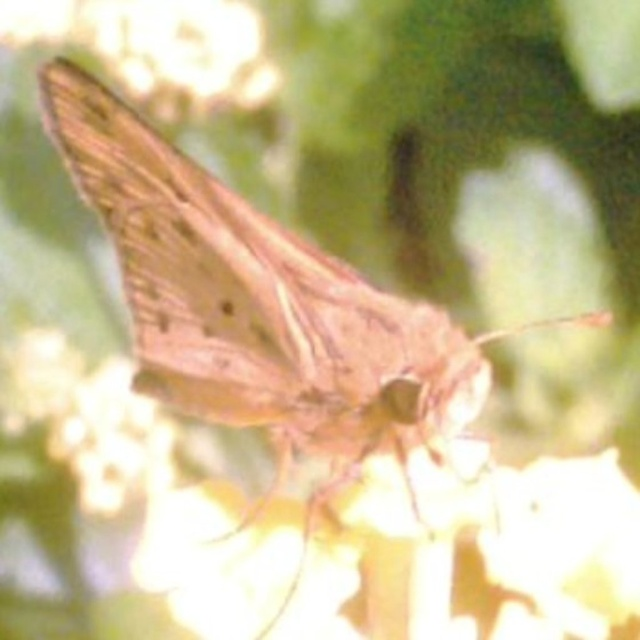Butterfly: (38, 42, 557, 553)
